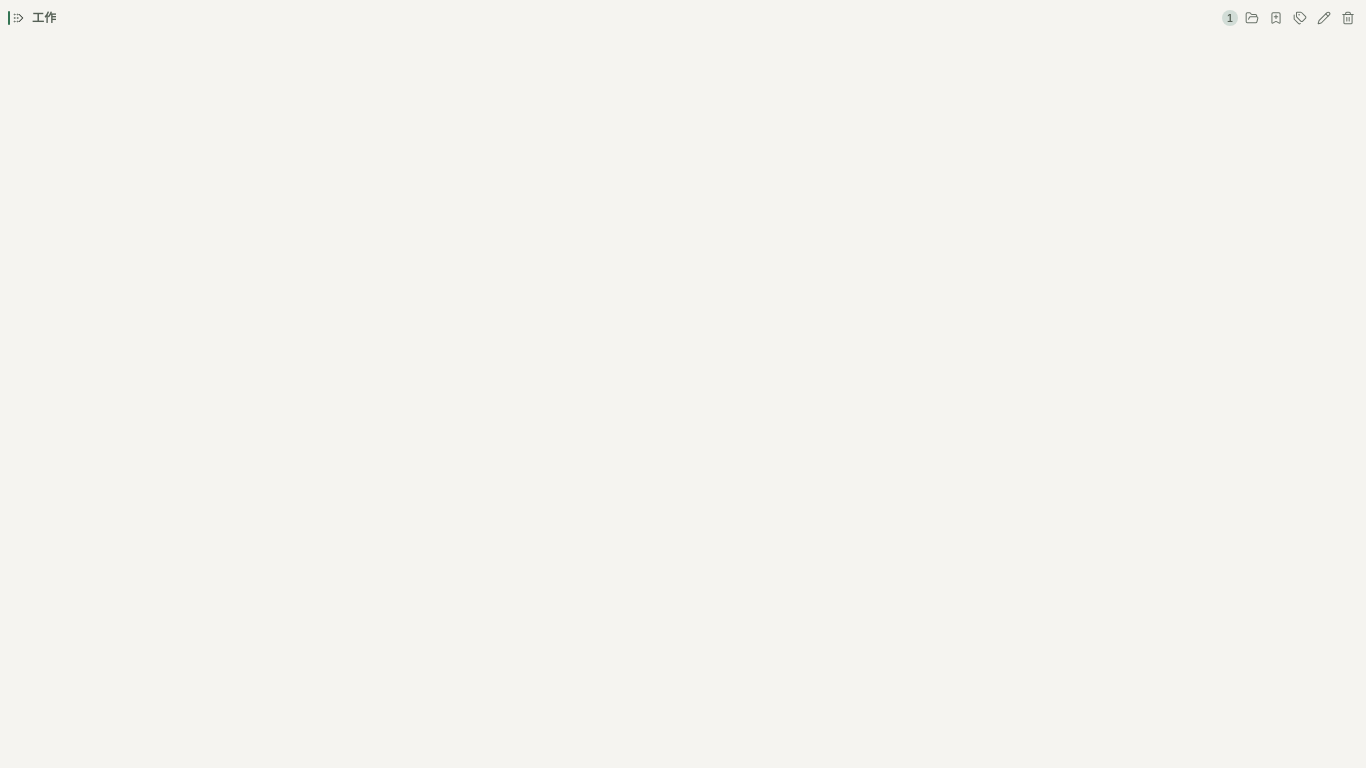
FolderRow 弹窗与结果反馈 › 折叠态下弹窗仍能挂载（弹窗不受 GroupCard 的折叠闸门影响）
The width and height of the screenshot is (1366, 768).
Click the button named "Edit folder" at (1324, 18), box left=1314, top=8, right=1334, bottom=28
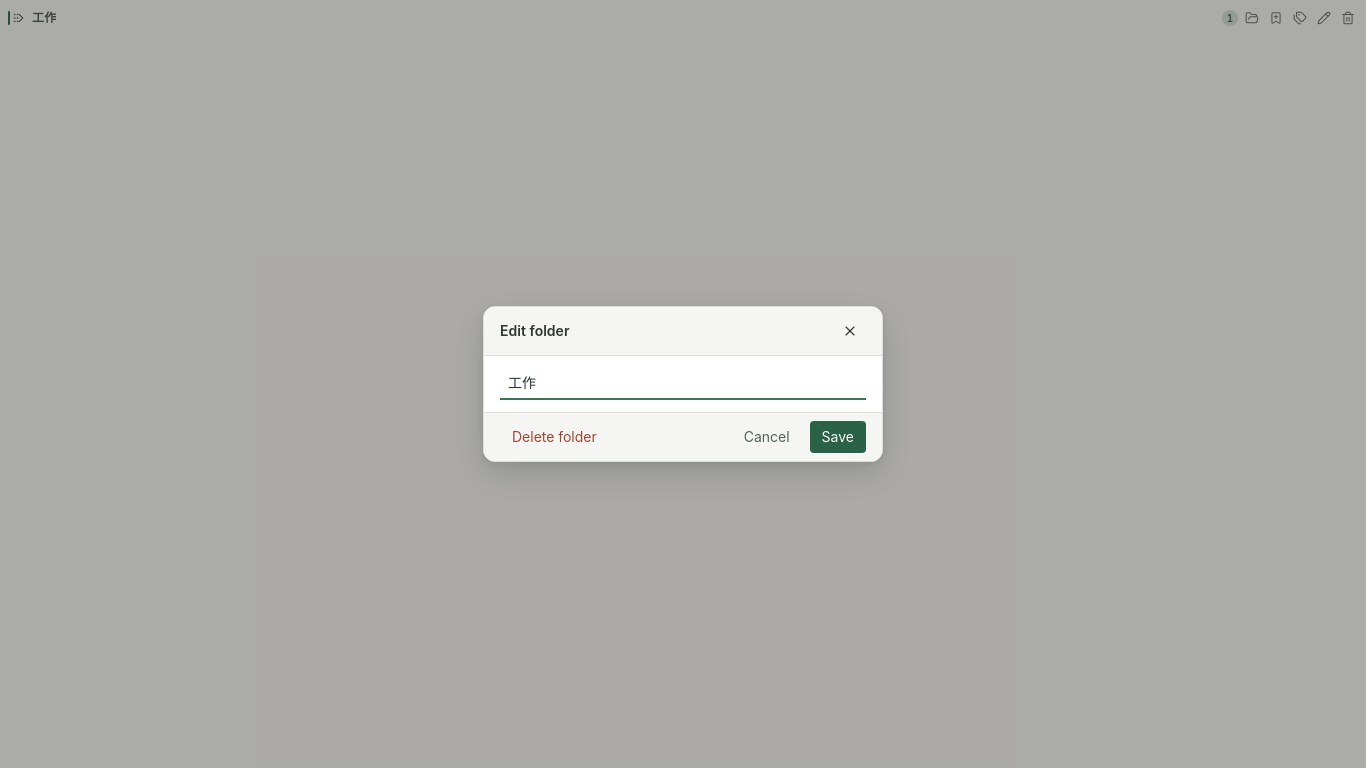
Check: the field showing "工作" is shown, box left=500, top=368, right=866, bottom=400
